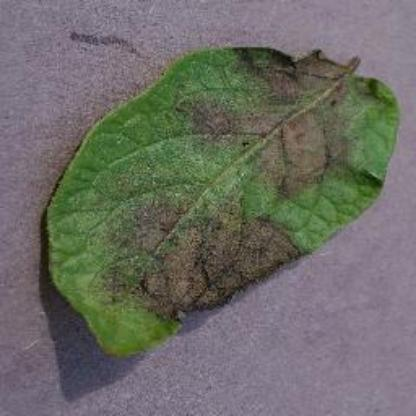Late-Blight: (35, 35, 407, 366)
